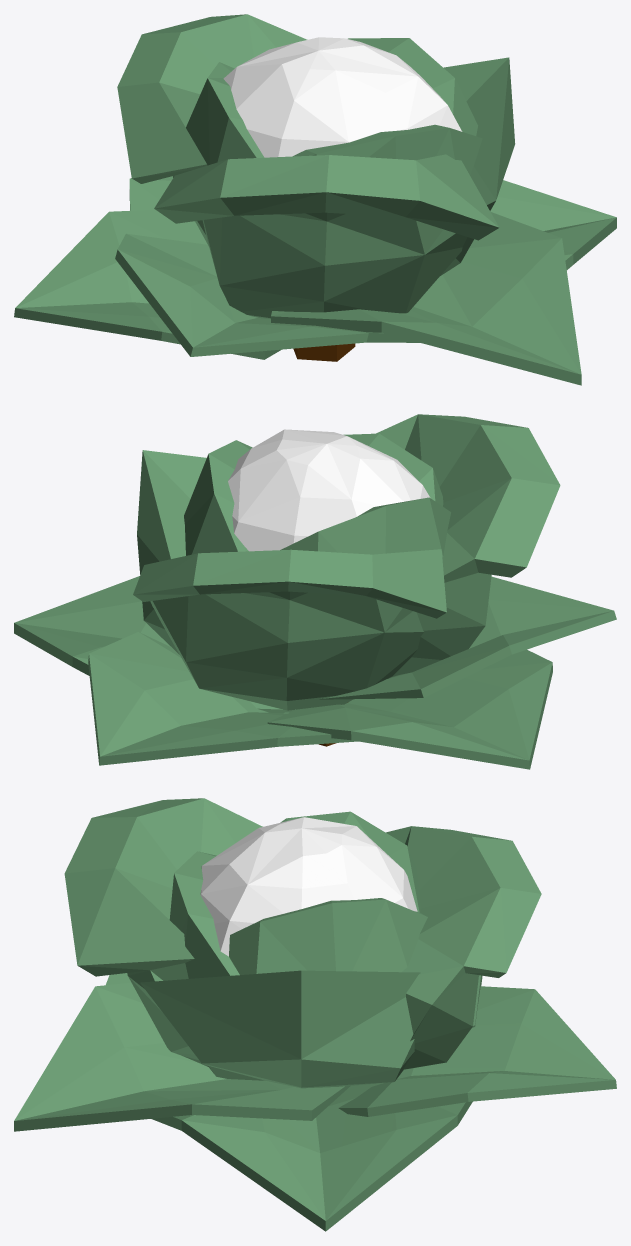
The model's file is mod_vg_cabbageM.fbx.
The picture shows the model from 3 angles, top to bottom: view 1: azimuth 30°, elevation 25°; view 2: azimuth 150°, elevation 25°; view 3: azimuth 270°, elevation 25°; orthographic projection. The views are drawn at different scales.
Parts seen in each view (by area): view 1: cabbage; view 2: cabbage; view 3: cabbage.
Part boxes in pixels (x1=…): cabbage: x1=14, y1=14, x2=616, y2=385; cabbage: x1=14, y1=414, x2=616, y2=769; cabbage: x1=14, y1=798, x2=616, y2=1231.
Bounding box in the file's own units: 69.68 × 35.04 × 65.79.
